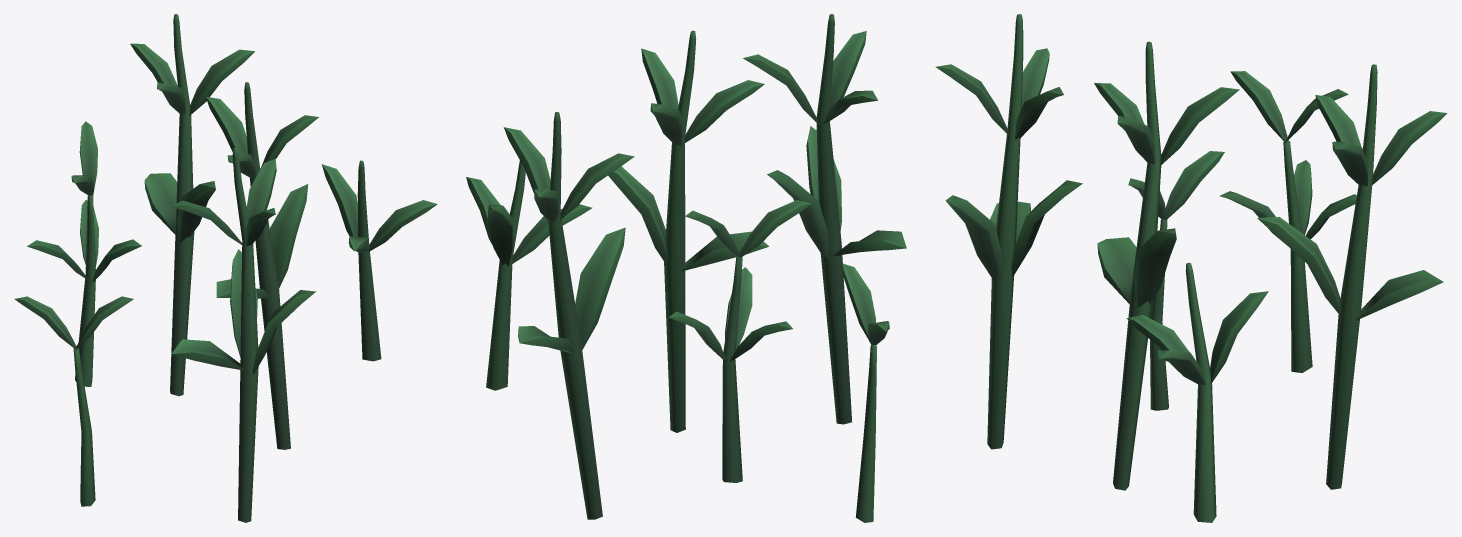
Rendered from SM_Plant_Sage_Lv1.fbx.
The picture shows the model from 3 angles, left to right: view 1: azimuth 30°, elevation 25°; view 2: azimuth 150°, elevation 25°; view 3: azimuth 270°, elevation 25°; orthographic projection. The views are drawn at different scales.
Parts seen in each view (by area): view 1: SM_Plant_Sage_Lv1; view 2: SM_Plant_Sage_Lv1; view 3: SM_Plant_Sage_Lv1.
Part boxes in pixels (x1=…): SM_Plant_Sage_Lv1: x1=14, y1=14, x2=437, y2=522; SM_Plant_Sage_Lv1: x1=466, y1=14, x2=906, y2=522; SM_Plant_Sage_Lv1: x1=935, y1=14, x2=1447, y2=522.
Size of the model in its own units: 45.49 by 42.6 by 43.08.
